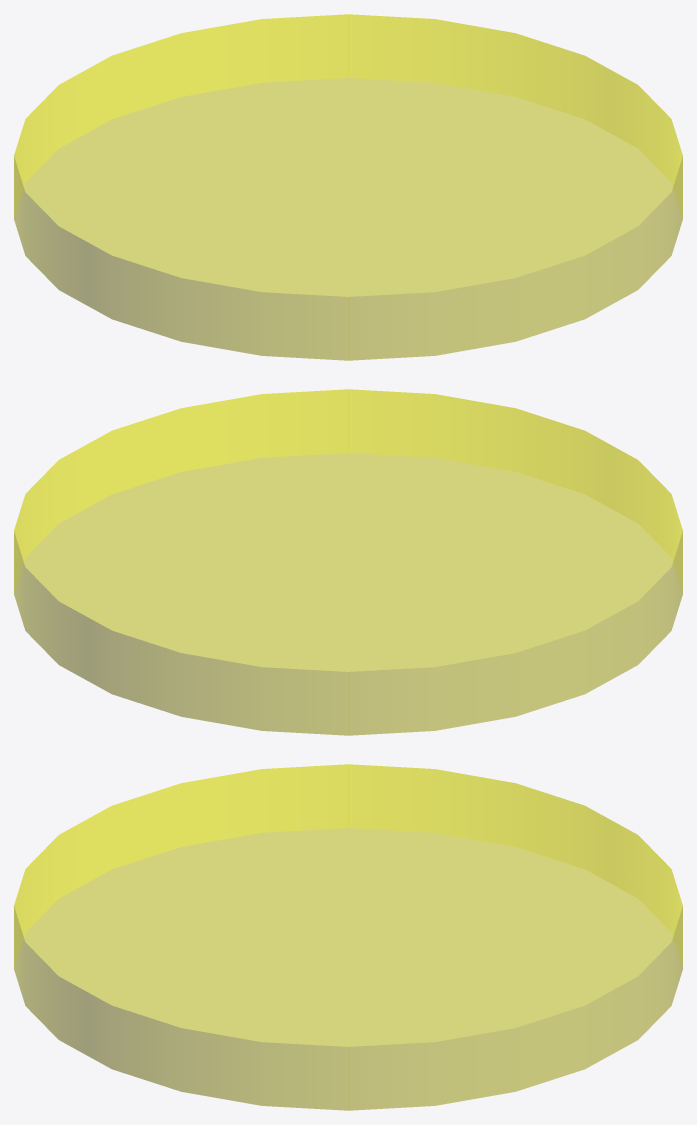
The model's file is prop_circle.dae.
The picture shows the model from 3 angles, top to bottom: view 1: azimuth 30°, elevation 25°; view 2: azimuth 150°, elevation 25°; view 3: azimuth 270°, elevation 25°; orthographic projection.
Visible parts, largest first — view 1: SketchUp (×2); view 2: SketchUp (×2); view 3: SketchUp (×2).
Boxes of the visible parts, box(x1,y1,x2,y2) form: SketchUp (×2): box(14, 14, 682, 360); SketchUp (×2): box(14, 389, 682, 735); SketchUp (×2): box(14, 764, 682, 1110).
Size of the model in its own units: 319087 by 319087 by 33561.
